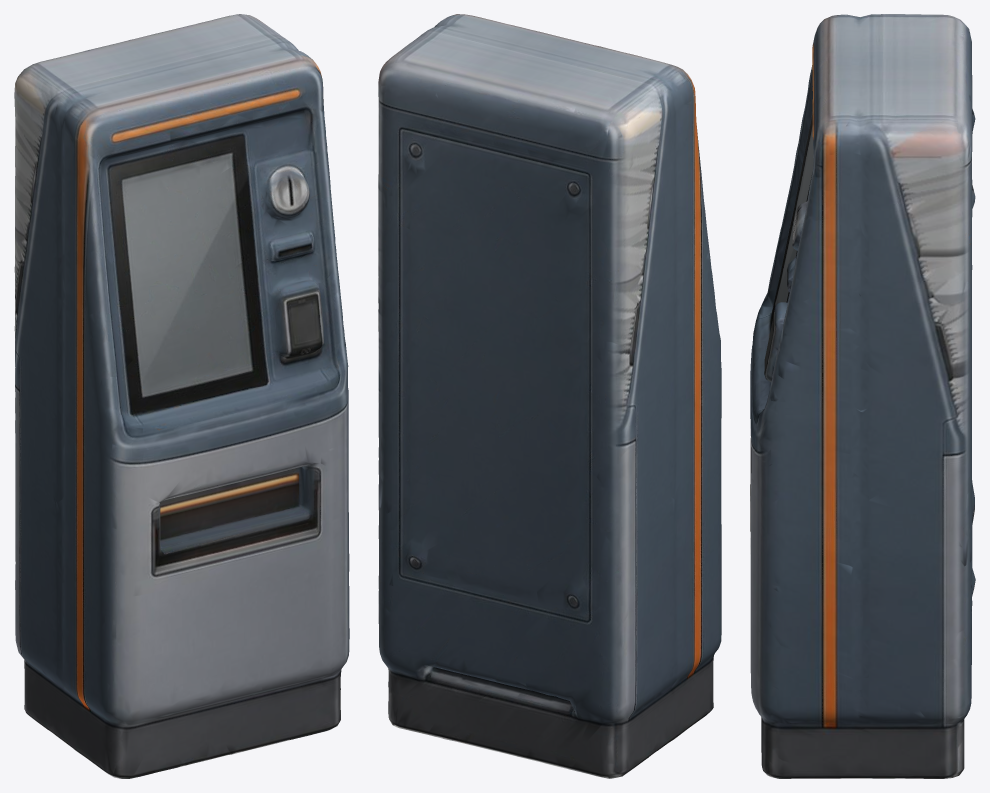
The model's file is ticket-kiosk.glb.
3 renders of one model, left to right at view 1: azimuth 30°, elevation 25°; view 2: azimuth 150°, elevation 25°; view 3: azimuth 270°, elevation 25°, orthographic. The views are drawn at different scales.
Visible parts, largest first — view 1: geometry_0; view 2: geometry_0; view 3: geometry_0.
Part boxes in pixels (box(x1,y1,x2,y2)): geometry_0: box(14, 14, 349, 778); geometry_0: box(378, 14, 721, 778); geometry_0: box(750, 14, 975, 778).
Size of the model in its own units: 0.7774 by 1.96 by 0.6079.
1 material, 1 textured.
